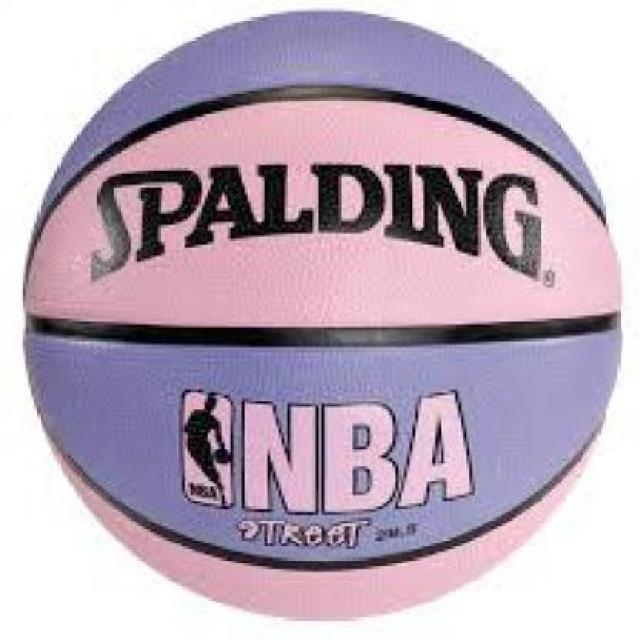basketball: (23, 10, 622, 618)
